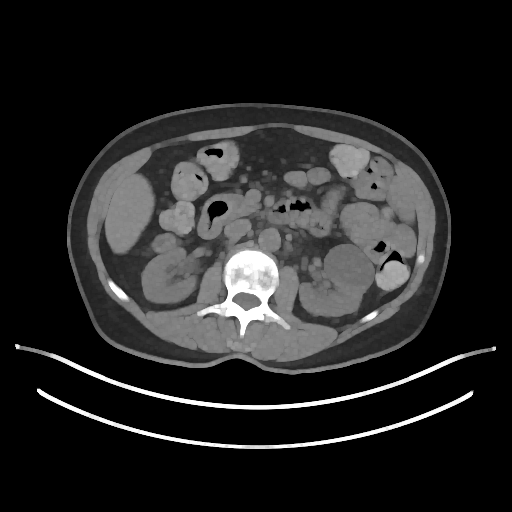Lesion: (320, 244, 376, 295)
